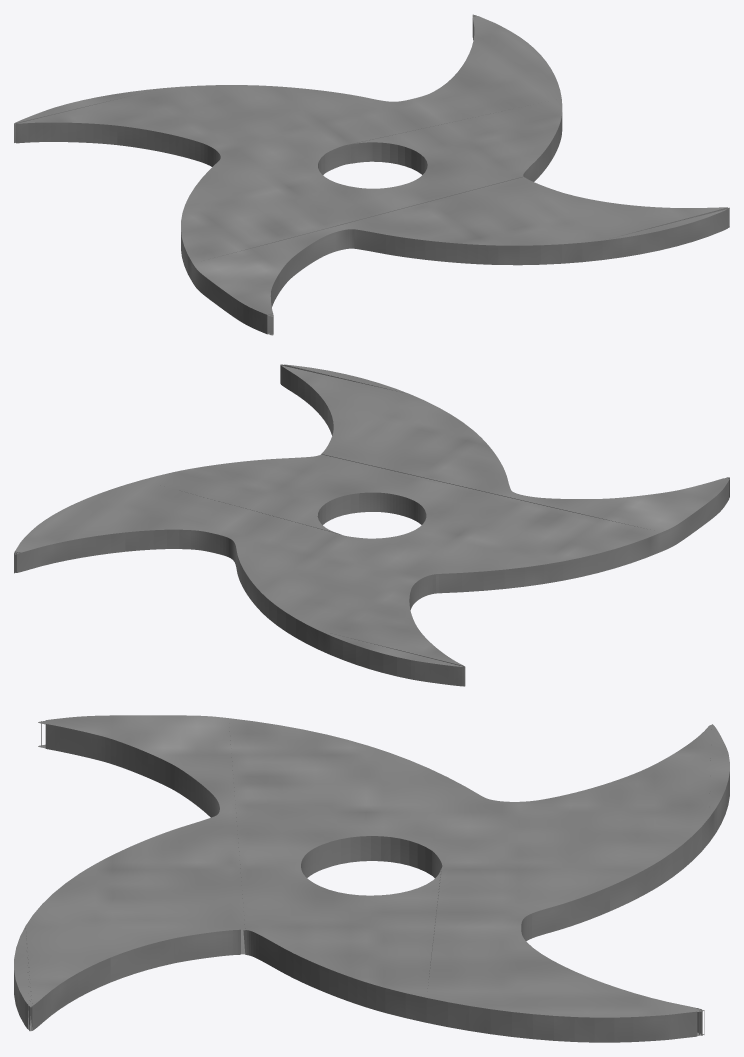
Rendered from shuriken-03b.glb.
3 renders of one model, top to bottom at view 1: azimuth 30°, elevation 25°; view 2: azimuth 150°, elevation 25°; view 3: azimuth 270°, elevation 25°, orthographic. The views are drawn at different scales.
Parts seen in each view (by area): view 1: Curve.001; view 2: Curve.001; view 3: Curve.001.
Part boxes in pixels (x1=…): Curve.001: x1=14, y1=14, x2=729, y2=335; Curve.001: x1=14, y1=364, x2=729, y2=686; Curve.001: x1=14, y1=715, x2=729, y2=1042.
Bounding box in the file's own units: 0.3711 × 0.0143 × 0.3714.
Materials: 1 (1 with a texture image).
